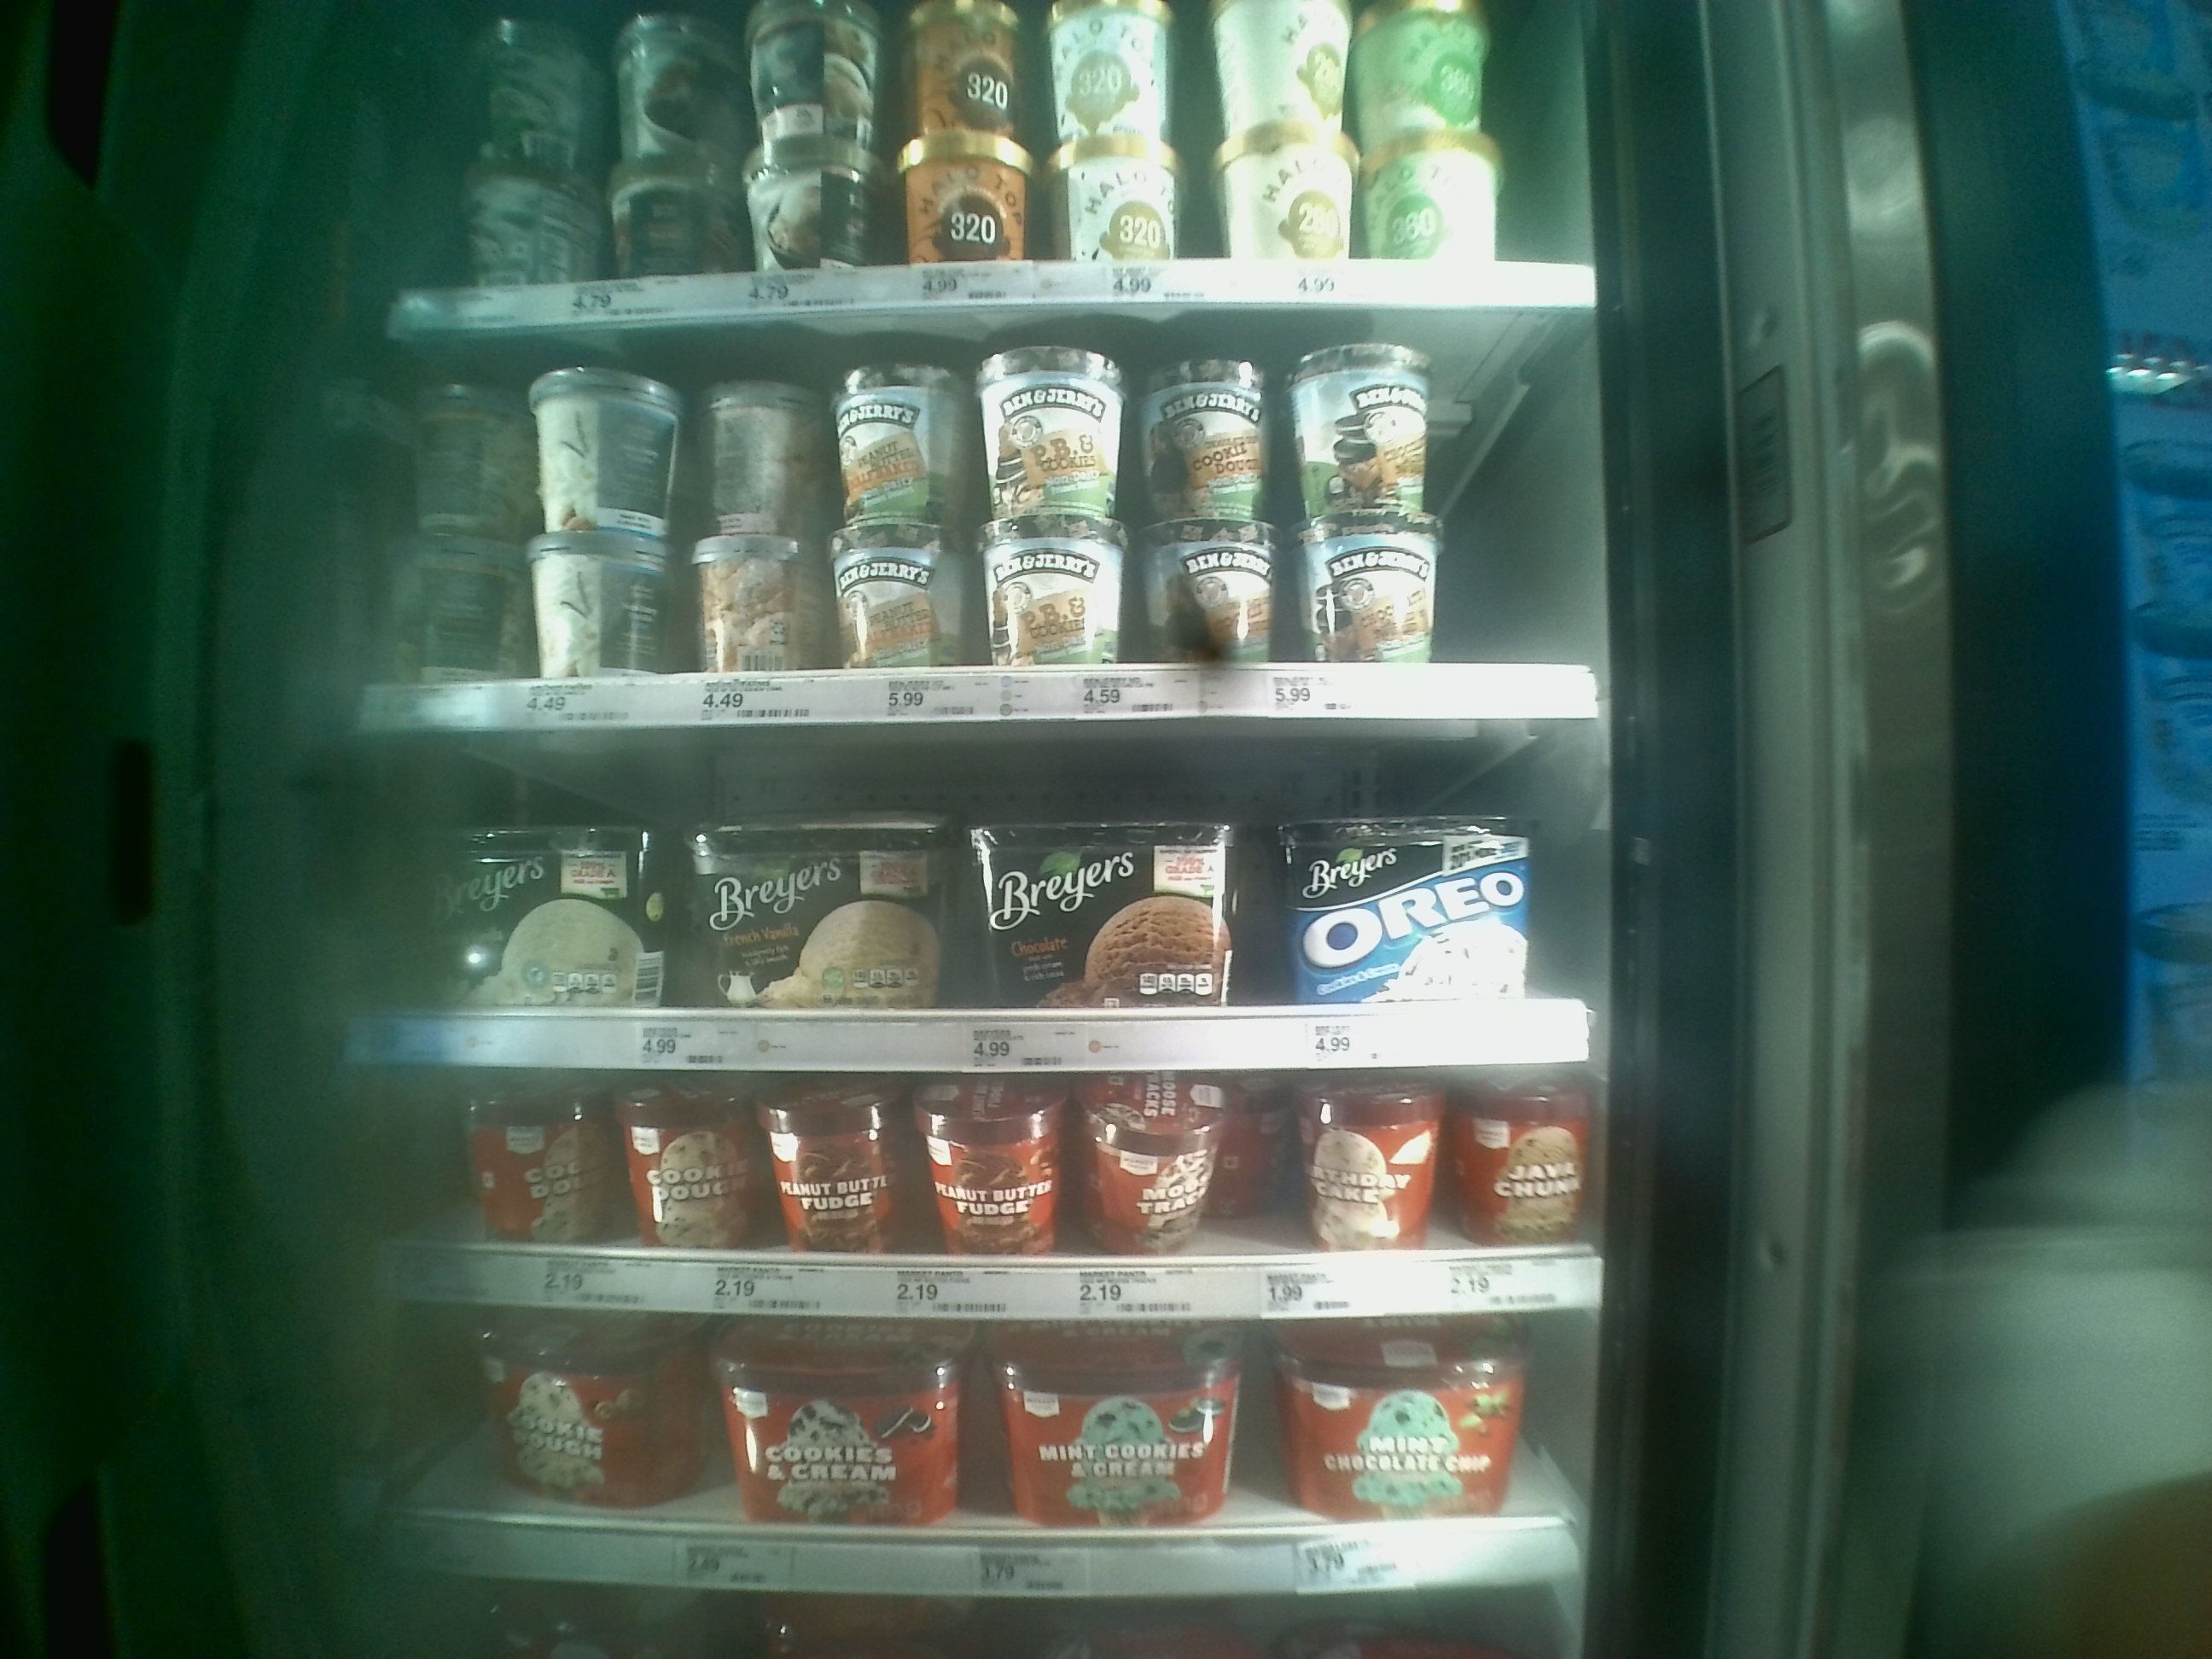shelf: (348, 335, 1609, 723), (334, 730, 1609, 1079), (376, 1319, 1602, 1600), (350, 1079, 1616, 1314)
